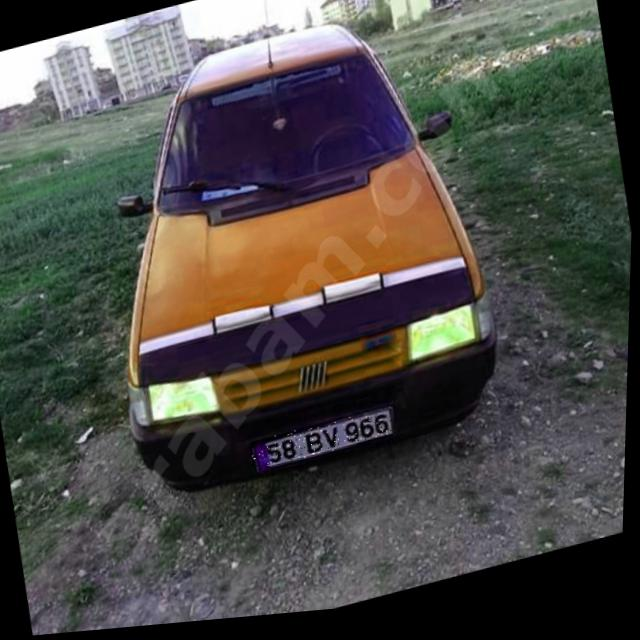license_plate: (252, 412, 399, 476)
